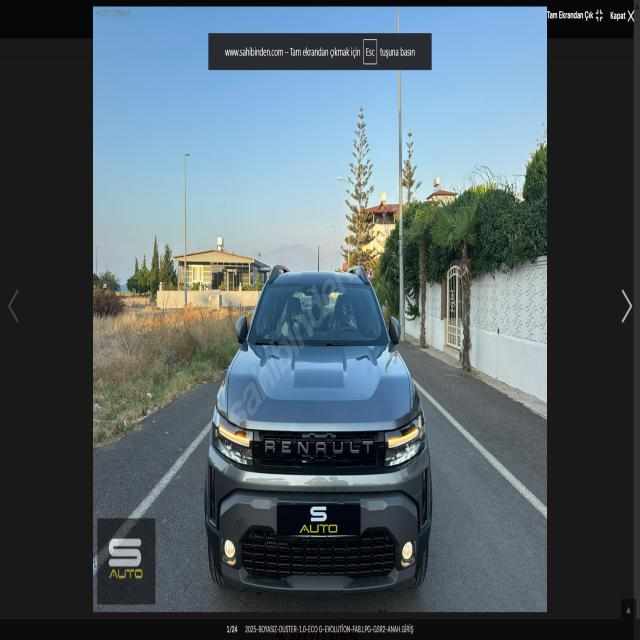renault: (254, 416, 382, 478)
